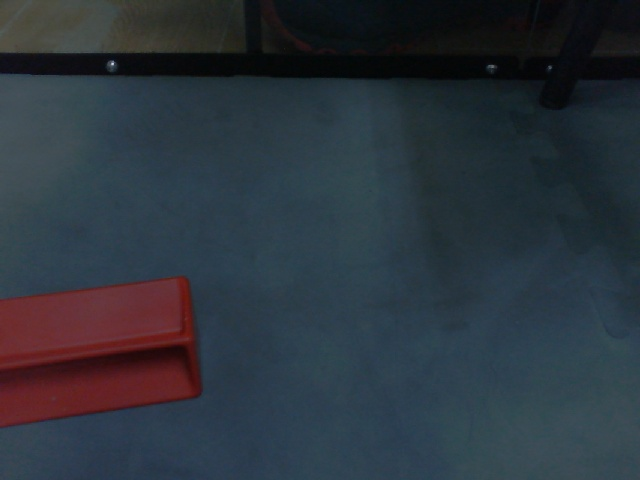RedSample: (1, 274, 205, 430)
